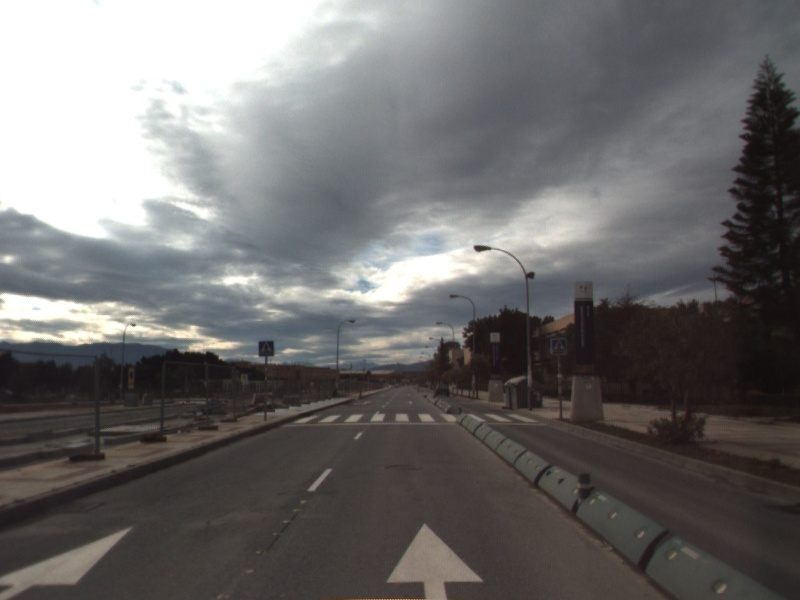STRAIGHT: (1, 521, 137, 600), (383, 518, 486, 600)
